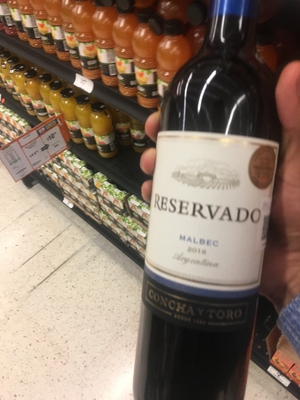reservado malbec: (129, 14, 287, 400)
